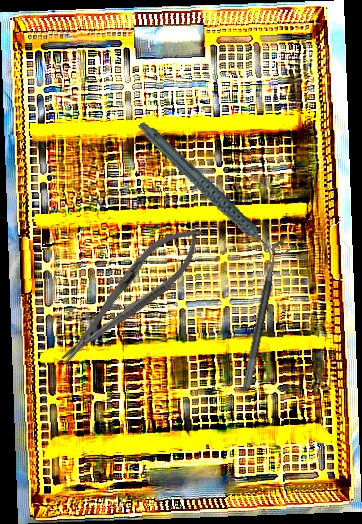Fixation Ring: (241, 236, 295, 393)
Handpiece: (135, 99, 277, 284)
Needle Holder: (47, 212, 215, 377)
